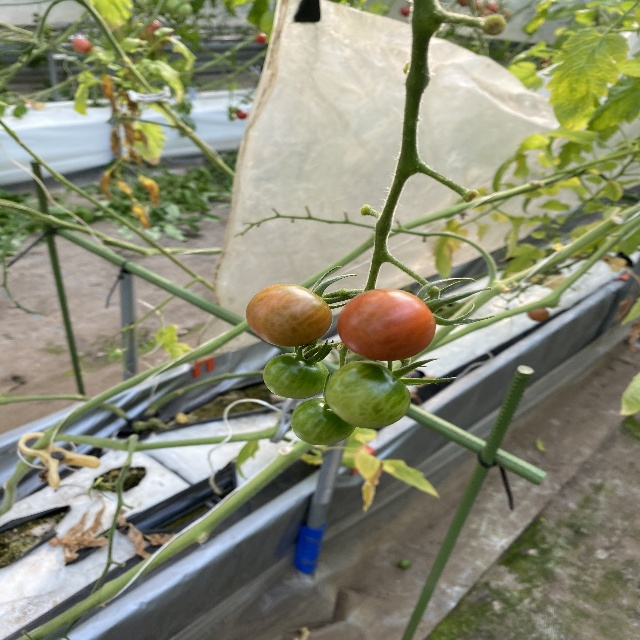l_fully_ripened: (338, 289, 436, 362)
l_green: (325, 361, 412, 429), (291, 398, 357, 446), (263, 353, 328, 400)
l_half_ripened: (245, 283, 333, 347)
